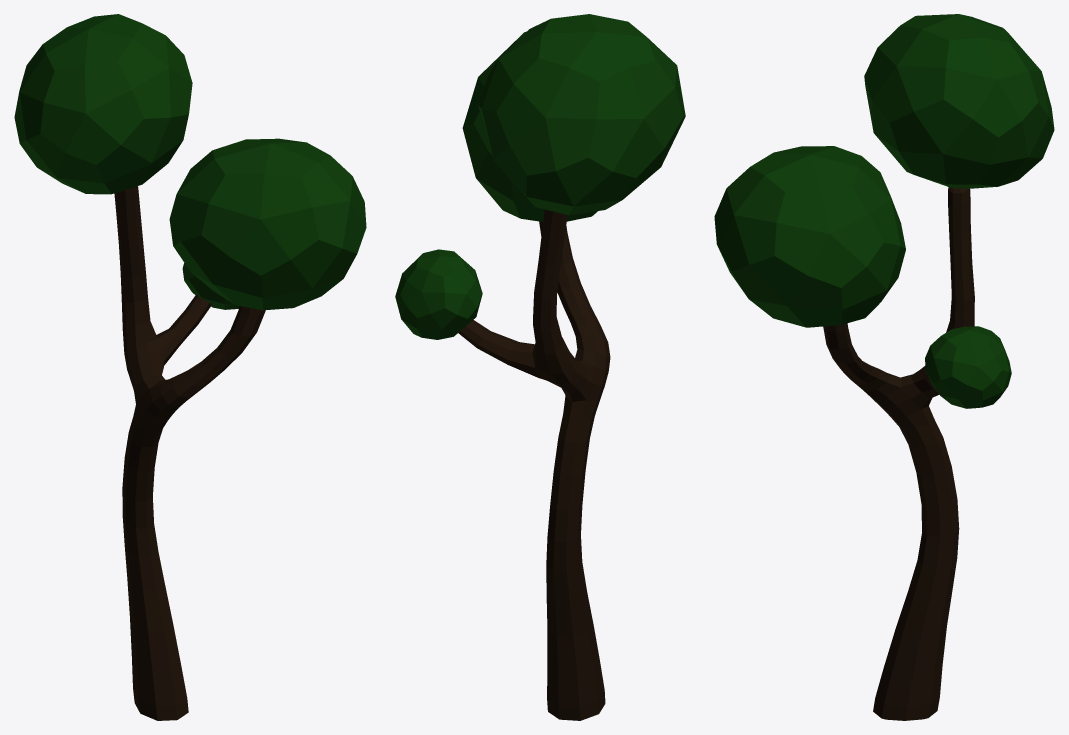
The model's file is Tree_NoPot.obj.
3 views of the same model, side by side, from view 1: azimuth 30°, elevation 25°; view 2: azimuth 150°, elevation 25°; view 3: azimuth 270°, elevation 25° (orthographic). The views are drawn at different scales.
Visible parts, largest first — view 1: Tree_NoPot_Cube.032; view 2: Tree_NoPot_Cube.032; view 3: Tree_NoPot_Cube.032.
Boxes of the visible parts, <box> form: Tree_NoPot_Cube.032: <box>14,14,366,720</box>; Tree_NoPot_Cube.032: <box>395,14,685,720</box>; Tree_NoPot_Cube.032: <box>714,14,1054,720</box>.
Bounding box in the file's own units: 1.4 × 3.55 × 1.62.
